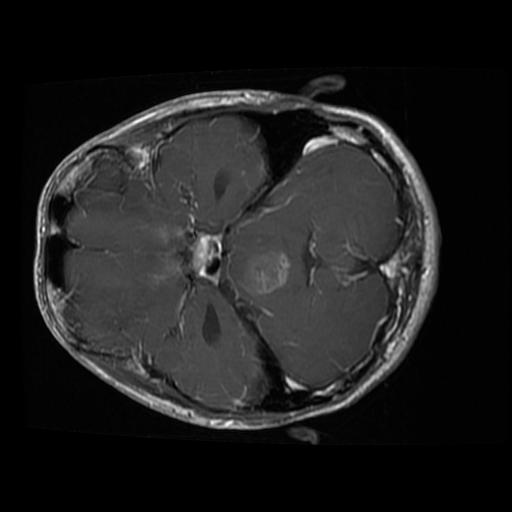glioma: (232, 237, 291, 296)
